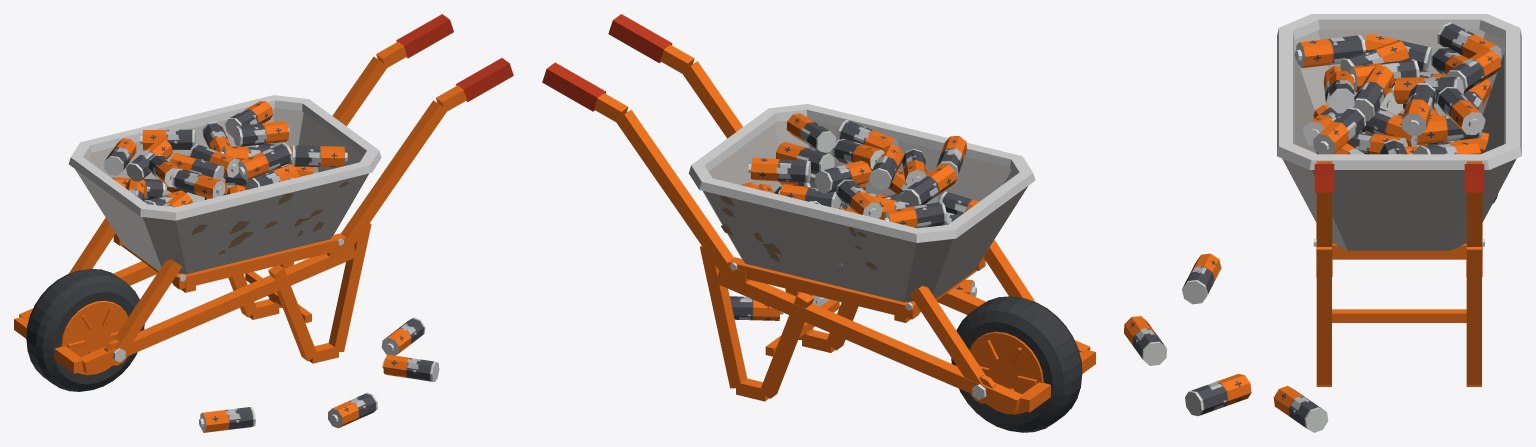
File: battery3_Optimized_v2.fbx
The picture shows the model from 3 angles, left to right: view 1: azimuth 30°, elevation 25°; view 2: azimuth 150°, elevation 25°; view 3: azimuth 270°, elevation 25°; orthographic projection. The views are drawn at different scales.
Parts seen in each view (by area): view 1: Static_Body, Battery_Pile, Wheel_Assembly; view 2: Static_Body, Battery_Pile, Wheel_Assembly; view 3: Static_Body, Battery_Pile.
Part boxes in pixels (bbox=[...]): Static_Body: bbox=[14, 14, 513, 373]; Battery_Pile: bbox=[104, 101, 439, 432]; Wheel_Assembly: bbox=[26, 268, 144, 391]; Static_Body: bbox=[542, 14, 1095, 412]; Battery_Pile: bbox=[729, 113, 979, 320]; Wheel_Assembly: bbox=[951, 296, 1082, 432]; Static_Body: bbox=[1277, 14, 1521, 386]; Battery_Pile: bbox=[1124, 22, 1501, 432].
Bounding box in the file's own units: 198 × 107 × 121.
1 material, 1 textured.
